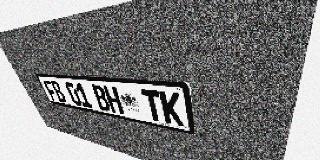0: (64, 82, 83, 106)
1: (73, 83, 93, 108)
B: (91, 84, 112, 112), (49, 81, 68, 103)
F: (42, 80, 60, 102)
H: (103, 86, 124, 115)
K: (159, 91, 184, 126)
T: (141, 89, 164, 123)
